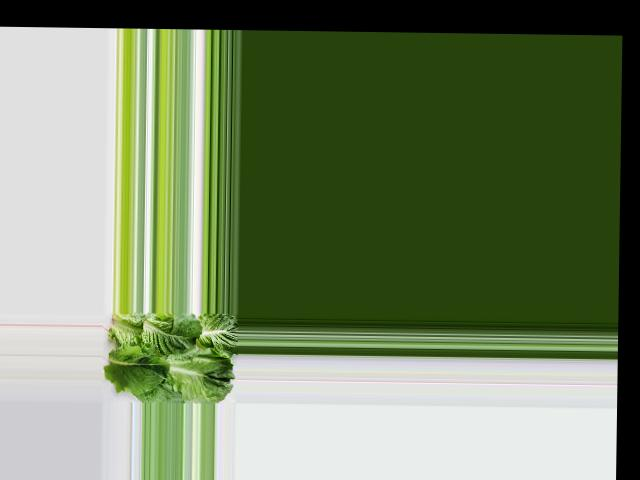lettuce: (106, 311, 235, 401)
